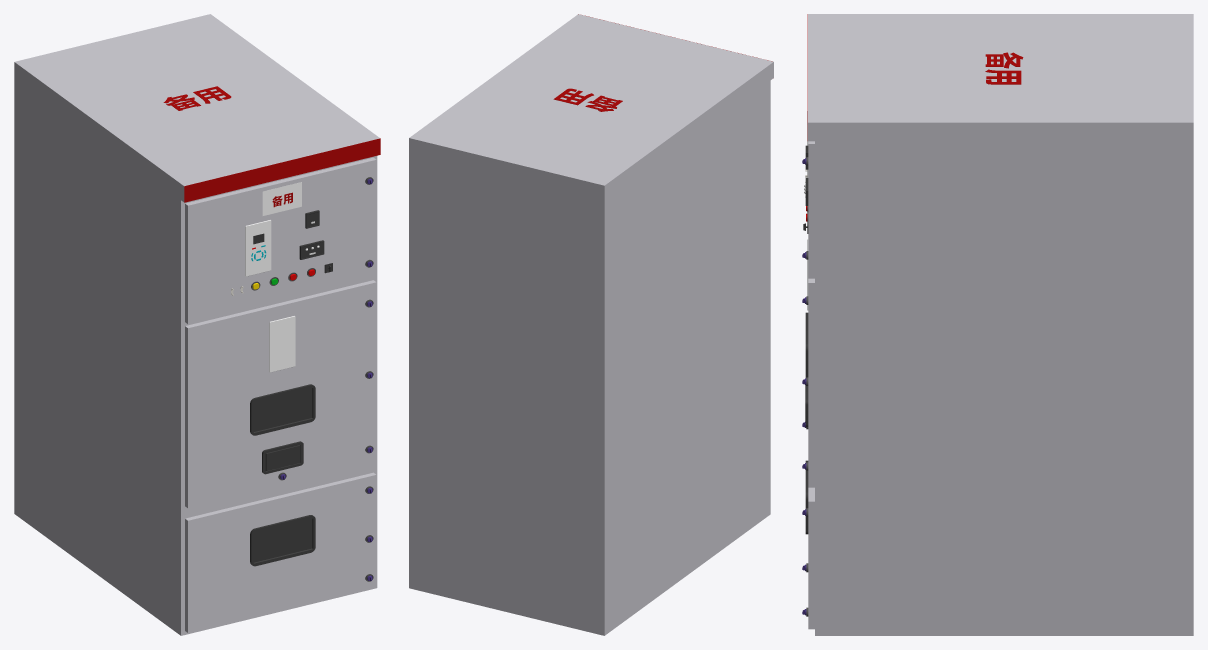
Rendered from 1-10-processed.gltf.
3 renders of one model, left to right at view 1: azimuth 30°, elevation 25°; view 2: azimuth 150°, elevation 25°; view 3: azimuth 270°, elevation 25°, orthographic. The views are drawn at different scales.
Parts seen in each view (by area): view 1: Rectangle144, Rectangle143, Rectangle145, Obj3d66_1138023_124_796, Obj3d66_1138023_124_797, Obj3d66_1138023_187_467, Obj3d66_1138023_187_468, Obj3d66_1138023_127_92, Rectangle8503, Text210; view 2: Rectangle144, Text210; view 3: Rectangle144, Rectangle143, Text210.
Boxes of the visible parts, box(x1,y1,x2,y2) form: Rectangle144: box(14, 14, 379, 635); Rectangle143: box(185, 157, 376, 632); Rectangle145: box(184, 138, 380, 202); Obj3d66_1138023_124_796: box(250, 384, 315, 435); Obj3d66_1138023_124_797: box(250, 515, 315, 566); Obj3d66_1138023_187_467: box(269, 316, 295, 372); Obj3d66_1138023_187_468: box(245, 220, 271, 276); Obj3d66_1138023_127_92: box(262, 441, 303, 474); Rectangle8503: box(262, 182, 301, 215); Text210: box(163, 86, 231, 110); Rectangle144: box(409, 14, 773, 635); Text210: box(553, 88, 622, 111); Rectangle144: box(808, 14, 1193, 635); Rectangle143: box(808, 141, 814, 629); Text210: box(985, 52, 1023, 84).
Bounding box in the file's own units: 1000 × 2201 × 1521.
